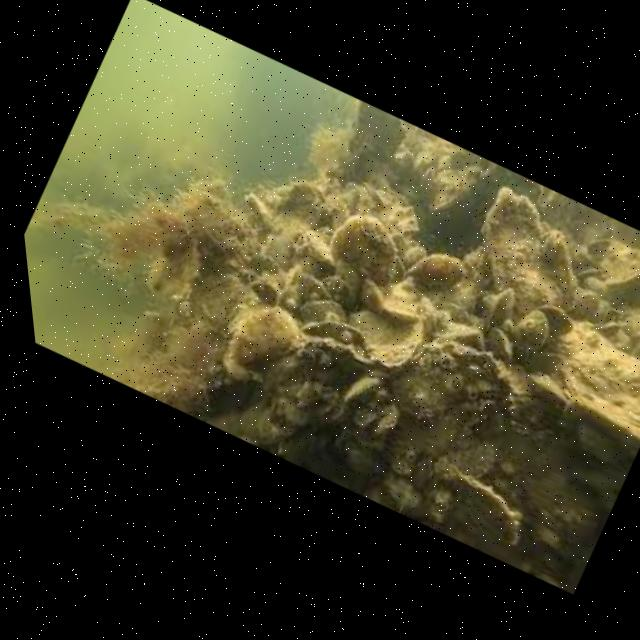Oyster-Closed: (468, 312, 538, 379), (232, 186, 288, 235), (435, 312, 489, 360)
Oyster-Indeterminate: (443, 175, 614, 342), (531, 306, 640, 448), (202, 286, 316, 403), (424, 450, 545, 558), (333, 287, 436, 381), (320, 200, 415, 290), (350, 260, 440, 338), (399, 237, 474, 306), (264, 167, 334, 232), (299, 303, 372, 362), (281, 216, 350, 277), (403, 288, 467, 346), (469, 277, 526, 338), (294, 285, 354, 339), (309, 260, 368, 312), (506, 301, 560, 356), (521, 366, 579, 415), (287, 267, 343, 316), (528, 297, 581, 345), (339, 365, 385, 414), (562, 279, 605, 324), (613, 293, 640, 353), (624, 288, 640, 378), (597, 316, 626, 345)
